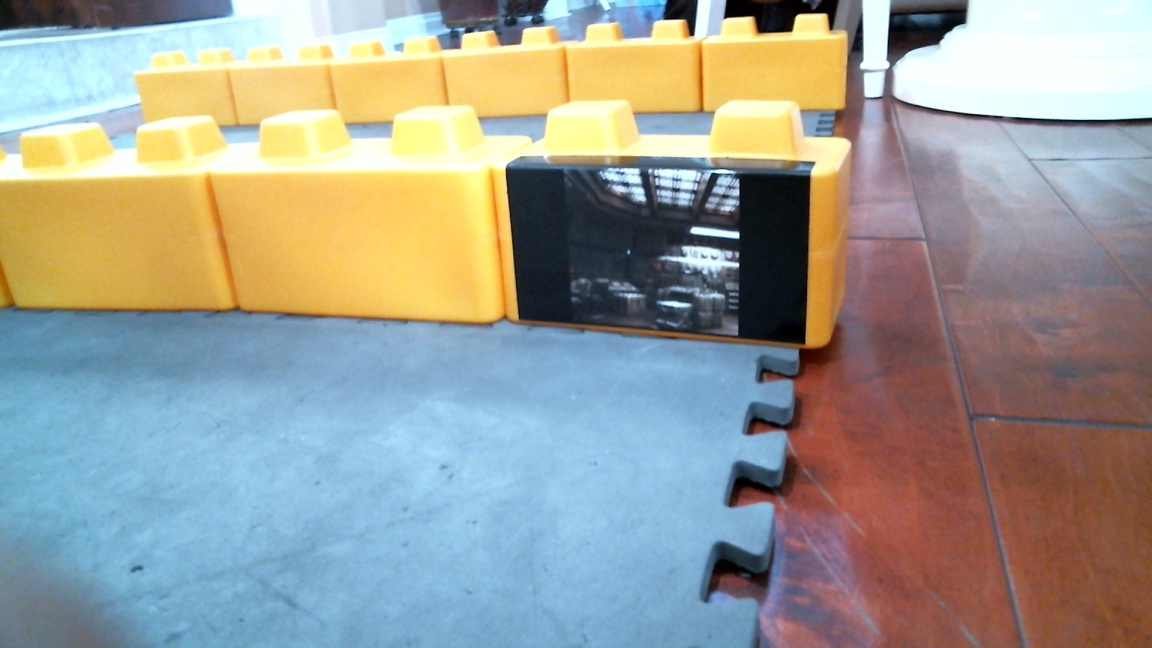skystone: (489, 95, 852, 349)
stone: (205, 108, 496, 322), (3, 125, 231, 336), (693, 13, 846, 117), (565, 24, 694, 120), (446, 28, 562, 109)
